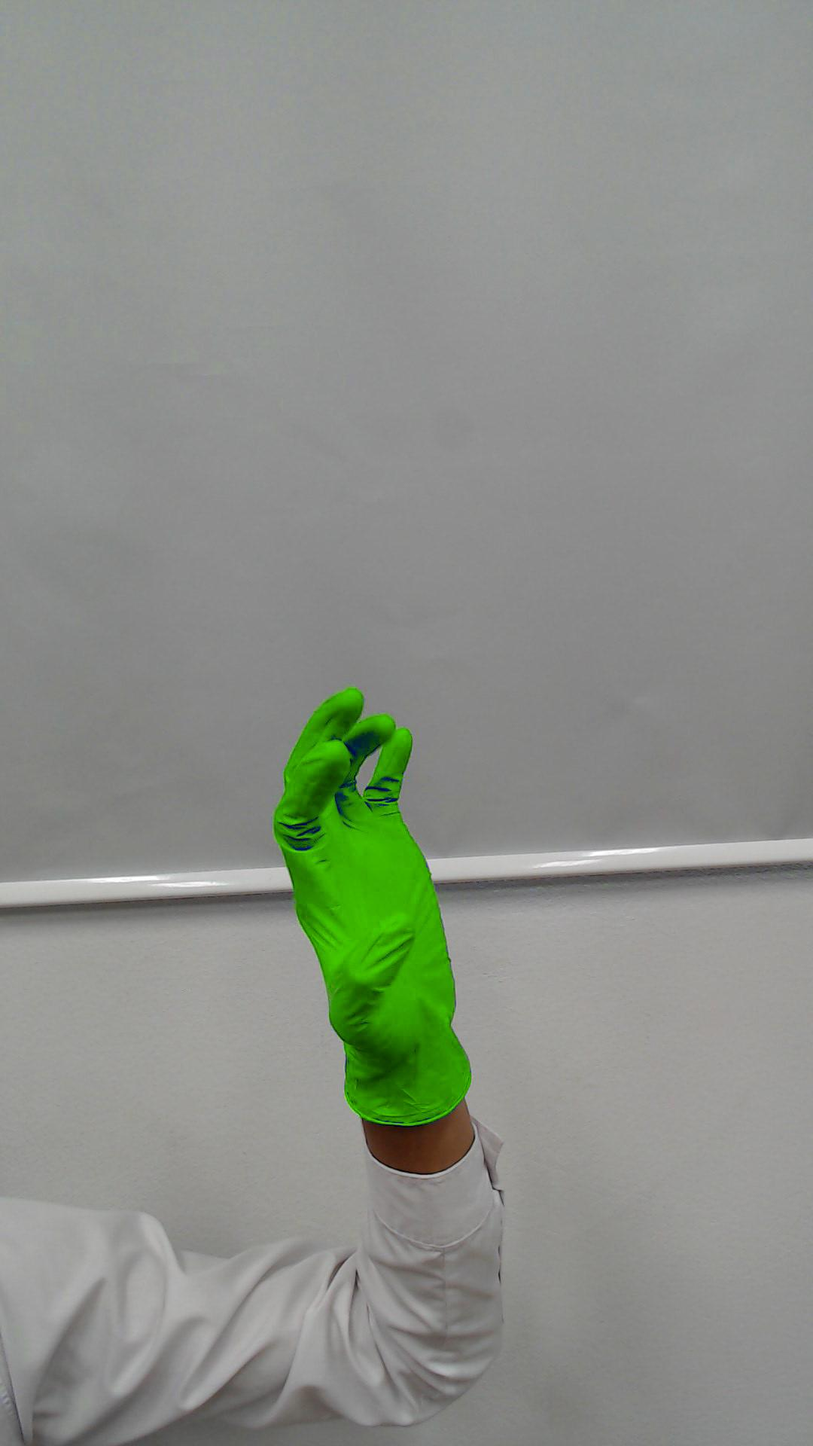gloves: (265, 670, 479, 1084)
